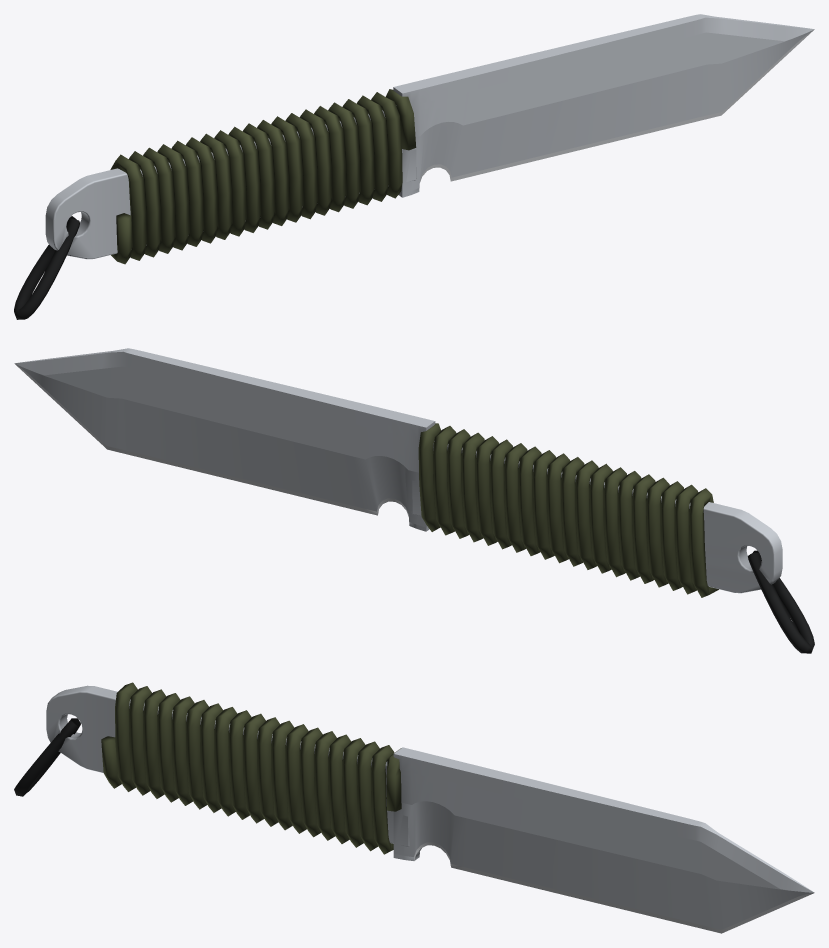
File: paracord.glb
3 renders of one model, top to bottom at view 1: azimuth 30°, elevation 25°; view 2: azimuth 150°, elevation 25°; view 3: azimuth 330°, elevation 25°, orthographic.
Parts seen in each view (by area): view 1: body; view 2: body; view 3: body.
Boxes of the visible parts, bbox=[...] form: body: bbox=[14, 14, 814, 319]; body: bbox=[14, 348, 814, 653]; body: bbox=[14, 682, 814, 933].
Bounding box in the file's own units: 0.257 × 0.0423 × 0.0129.
